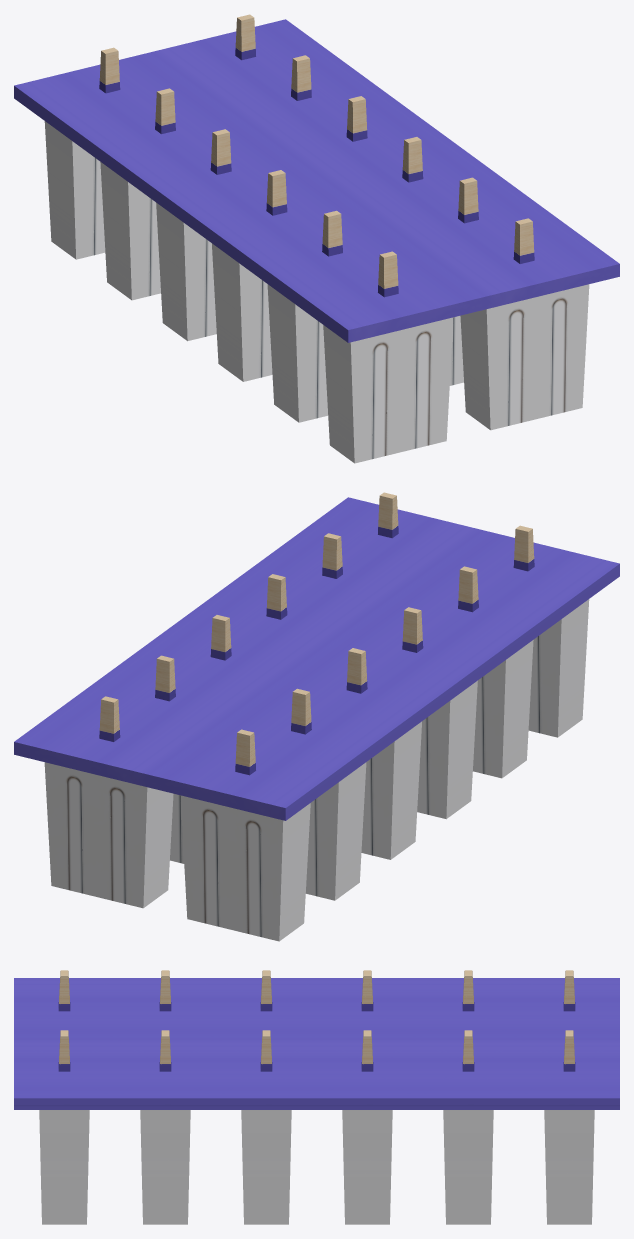
File: popsiclerGroup.fbx
3 renders of one model, top to bottom at view 1: azimuth 30°, elevation 25°; view 2: azimuth 150°, elevation 25°; view 3: azimuth 270°, elevation 25°, orthographic. The views are drawn at different scales.
Visible parts, largest first — view 1: popsicle_groups; view 2: popsicle_groups; view 3: popsicle_groups.
Boxes of the visible parts, box(x1,y1,x2,y2) form: popsicle_groups: box(14, 14, 619, 463); popsicle_groups: box(14, 492, 619, 941); popsicle_groups: box(14, 970, 619, 1224).
Size of the model in its own units: 0.9391 by 0.6228 by 2.
